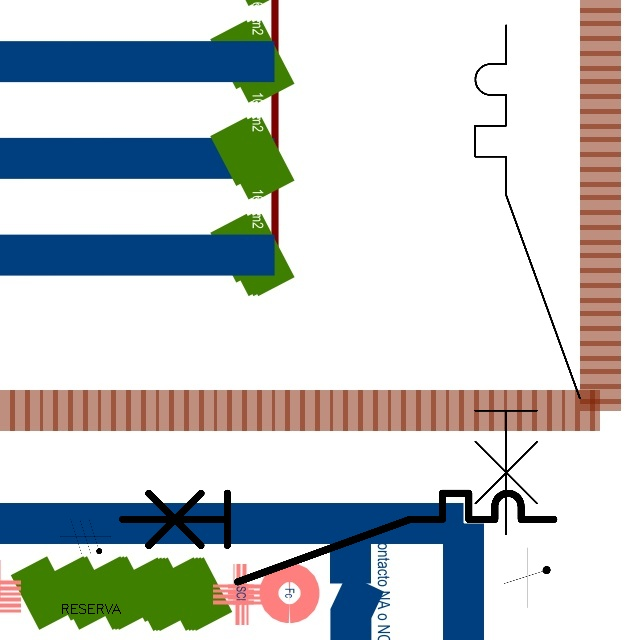interruptor_termomagnetico: (462, 12, 593, 547), (111, 482, 564, 593)
